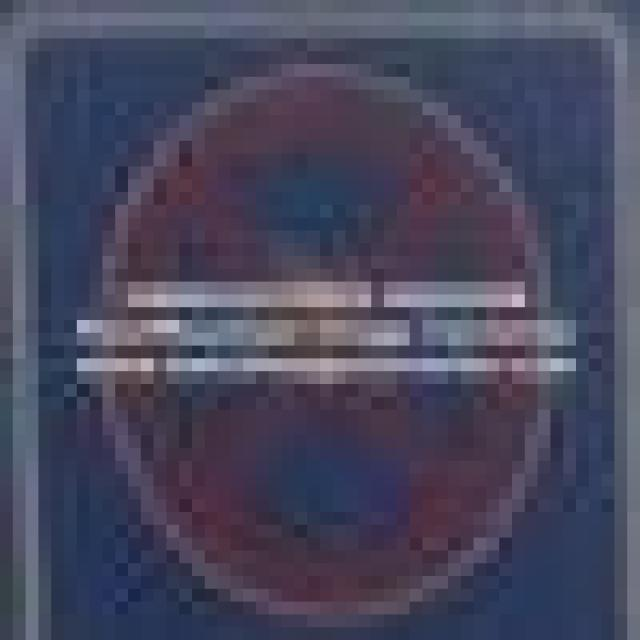no_parking: (77, 51, 563, 614)
